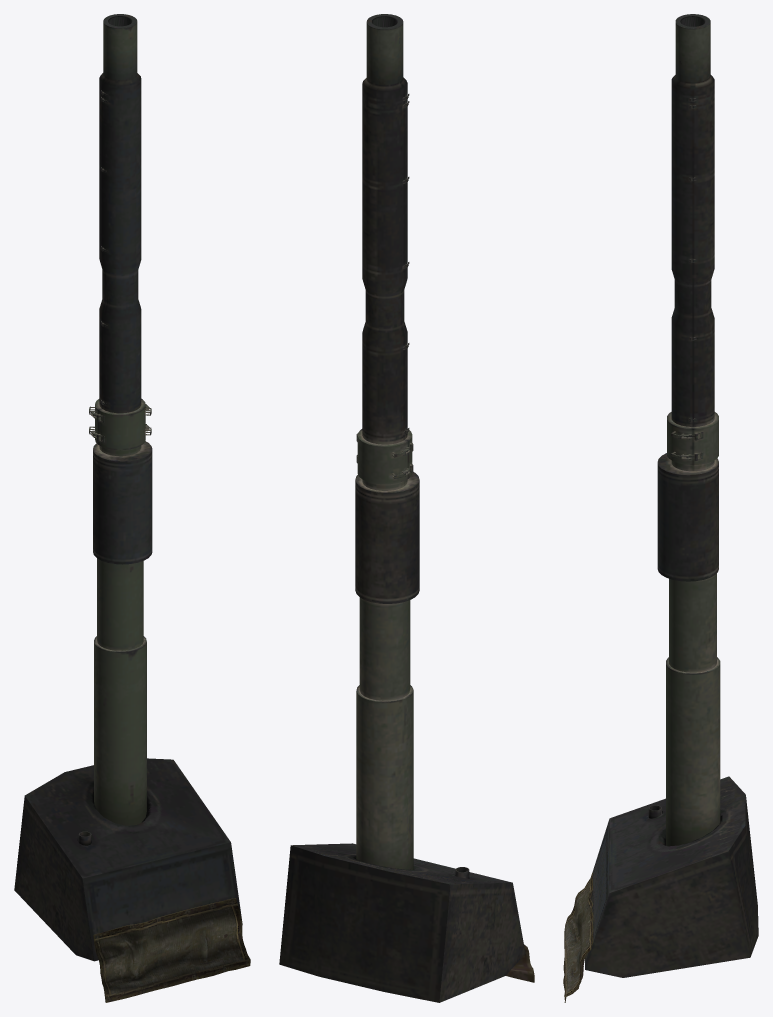
File: Gun_01.glb
3 views of the same model, side by side, from view 1: azimuth 30°, elevation 25°; view 2: azimuth 150°, elevation 25°; view 3: azimuth 270°, elevation 25° (orthographic). The views are drawn at different scales.
Parts seen in each view (by area): view 1: set_0_group_0; view 2: set_0_group_0; view 3: set_0_group_0.
Boxes of the visible parts, x1,y1,x2,y2 form: set_0_group_0: [14, 14, 250, 1002]; set_0_group_0: [279, 14, 534, 1002]; set_0_group_0: [563, 14, 758, 1002].
Size of the model in its own units: 0.788 by 4.65 by 0.868.
1 material, 1 textured.
